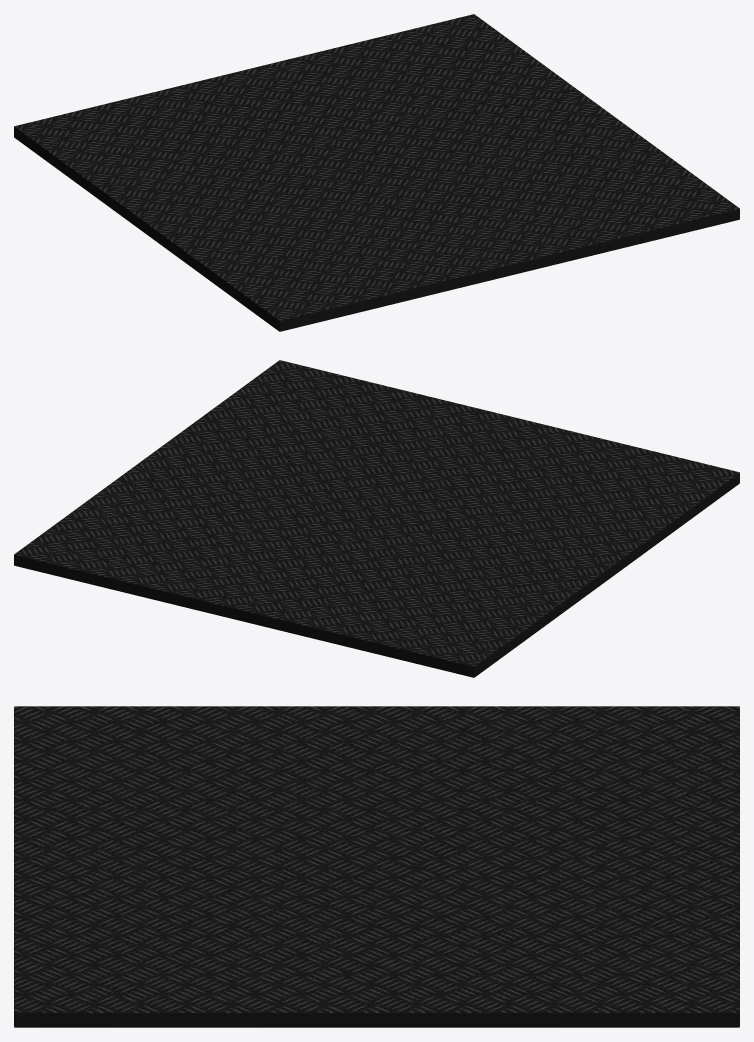
The model's file is floorMat.glb.
3 renders of one model, top to bottom at view 1: azimuth 30°, elevation 25°; view 2: azimuth 150°, elevation 25°; view 3: azimuth 270°, elevation 25°, orthographic. The views are drawn at different scales.
Parts seen in each view (by area): view 1: Rubber; view 2: Rubber; view 3: Rubber.
Part boxes in pixels (x1,y1,x2,y2): Rubber: [14, 14, 739, 331]; Rubber: [14, 360, 739, 677]; Rubber: [14, 706, 739, 1027].
Bounding box in the file's own units: 0.5 × 0.012 × 0.5.
Materials: 1 (1 with a texture image).
